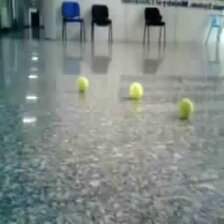tennis: (177, 98, 193, 119), (129, 81, 144, 99), (76, 76, 88, 92)
